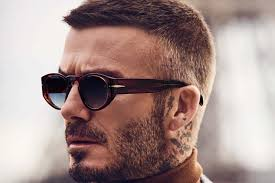g.y: (78, 72, 113, 110)
